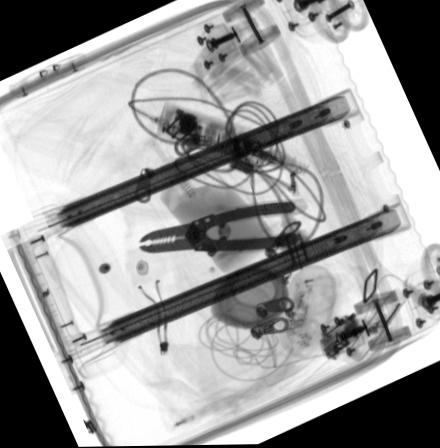Pliers: (136, 202, 299, 255)
